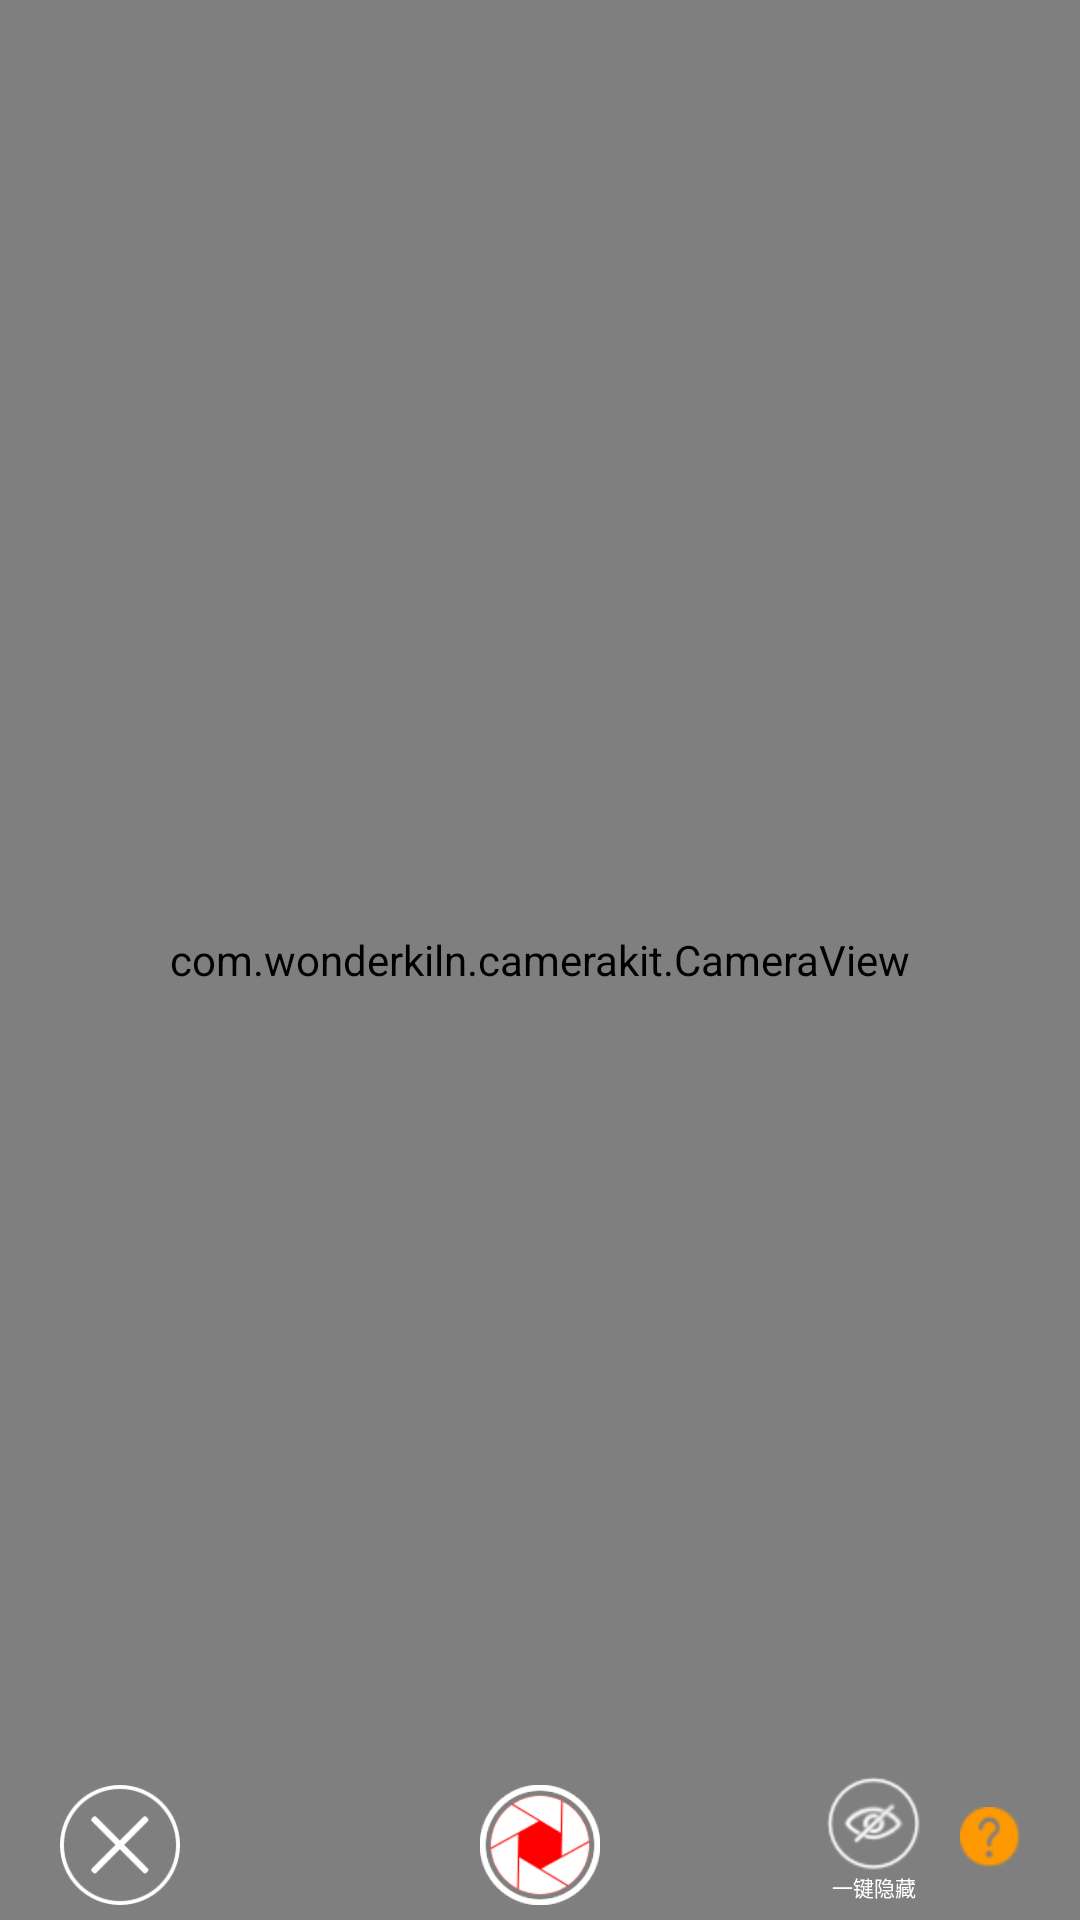

Screen size 1080px x 1920px. Icon name, then its box in pixels as (x1, y1, x2, y2):
video start: (480, 1785, 600, 1905)
